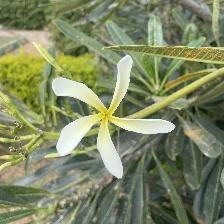champaka: (48, 55, 178, 181)
